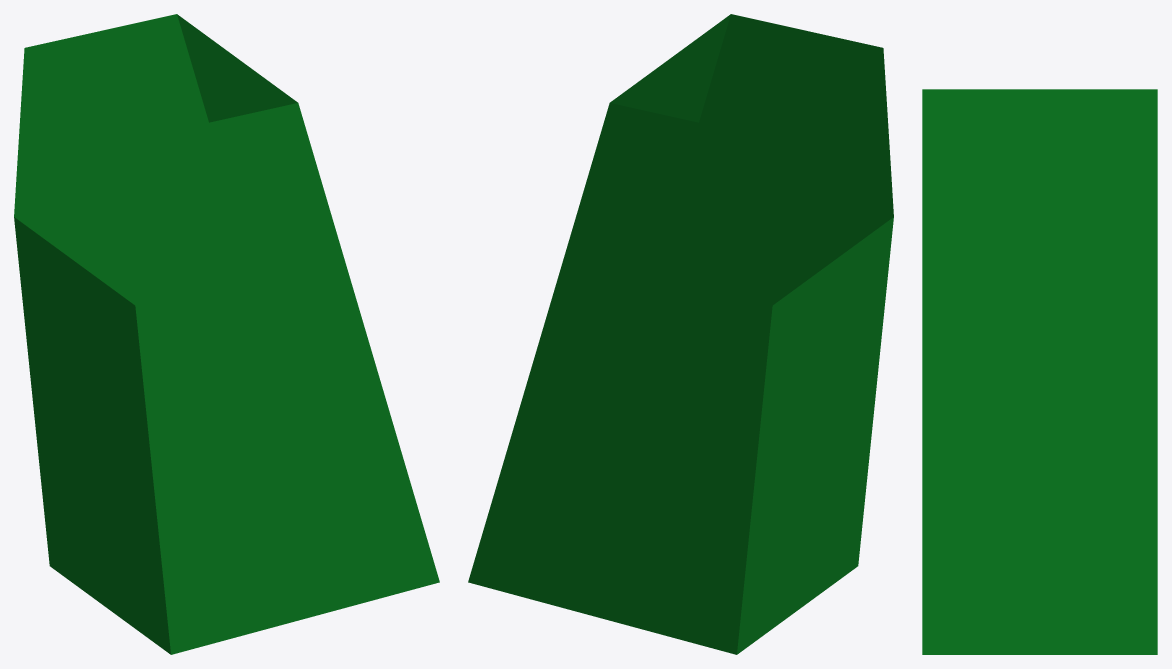
File: grip_05.fbx
3 views of the same model, side by side, from view 1: azimuth 30°, elevation 25°; view 2: azimuth 150°, elevation 25°; view 3: azimuth 270°, elevation 25° (orthographic). The views are drawn at different scales.
Visible parts, largest first — view 1: grip_1.001; view 2: grip_1.001; view 3: grip_1.001.
Part boxes in pixels (x1,y1,x2,y2): grip_1.001: (14, 14, 439, 654); grip_1.001: (468, 14, 893, 654); grip_1.001: (922, 89, 1157, 654).
Size of the model in its own units: 226 by 373 by 156.
